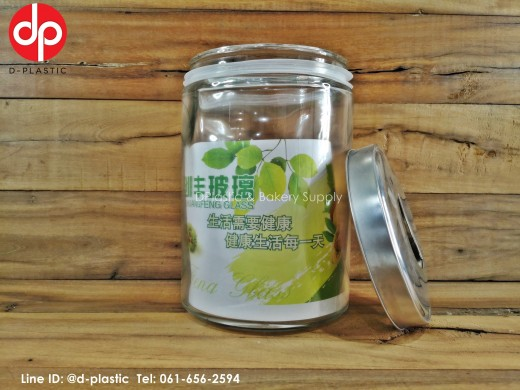plastic_glass: (176, 41, 358, 333)
